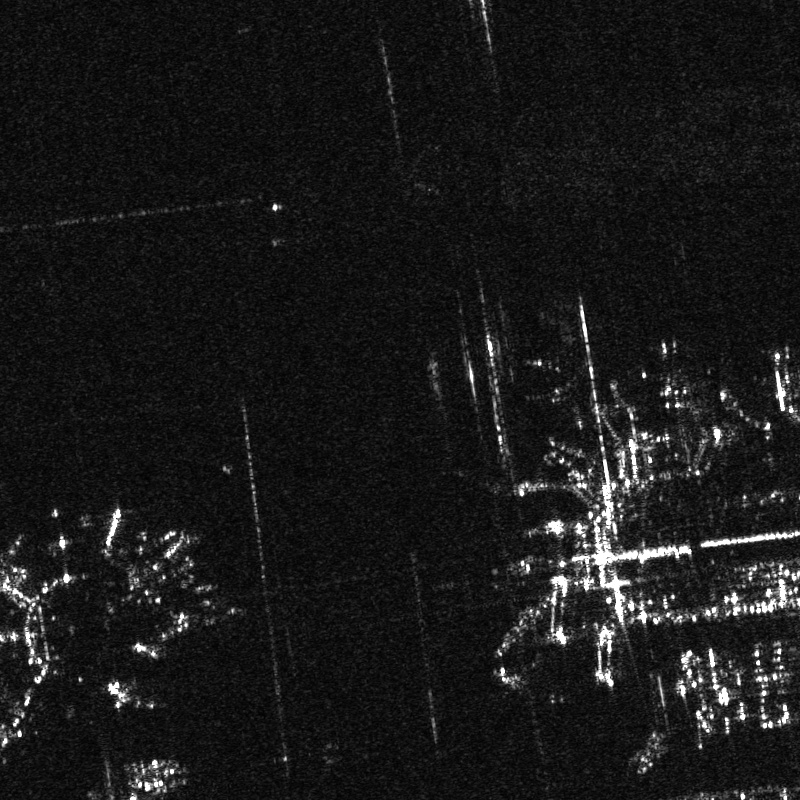A220: (640, 336, 711, 410), (746, 343, 799, 412)
